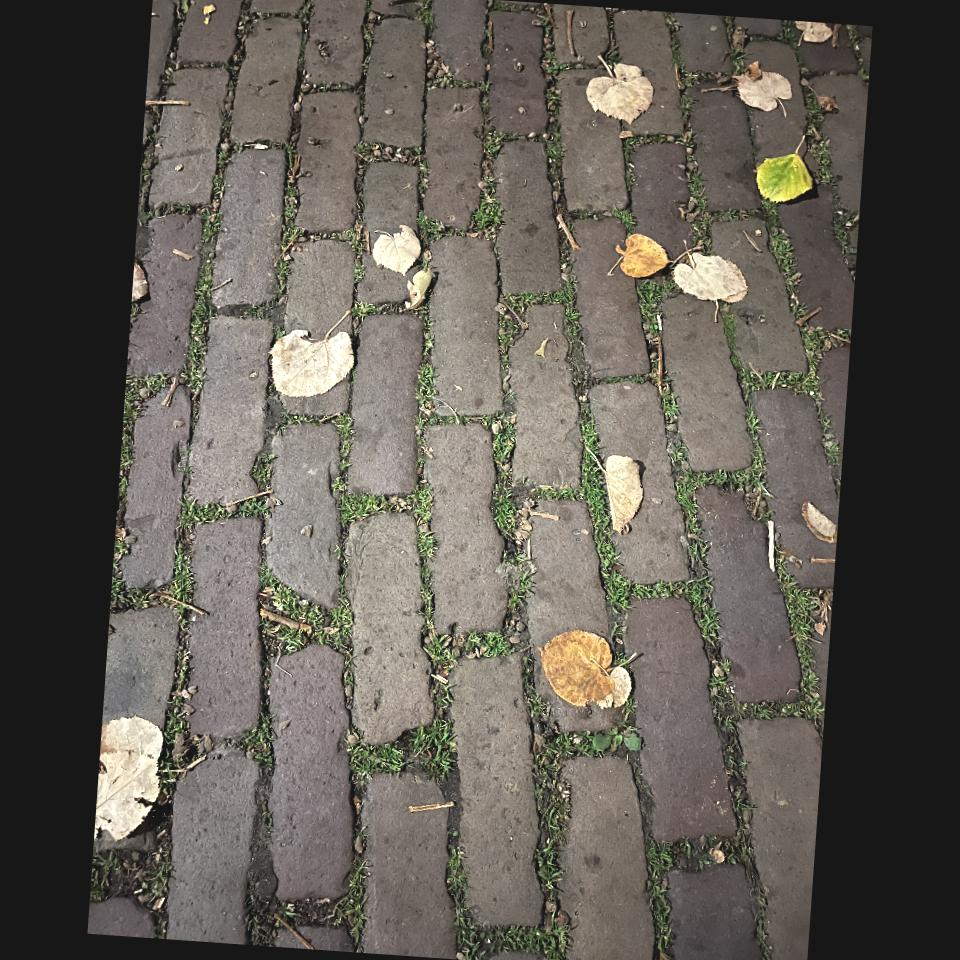weed: (626, 474, 822, 809), (581, 406, 631, 627), (180, 198, 222, 399), (349, 717, 457, 789), (263, 566, 352, 651), (118, 375, 171, 498), (780, 568, 820, 680), (768, 206, 805, 317), (335, 484, 432, 524), (491, 410, 517, 499), (179, 495, 229, 536), (110, 574, 144, 609), (801, 328, 822, 372), (279, 626, 303, 653), (497, 505, 515, 536), (236, 502, 267, 518), (806, 703, 825, 724), (802, 677, 817, 694), (502, 615, 514, 635)
